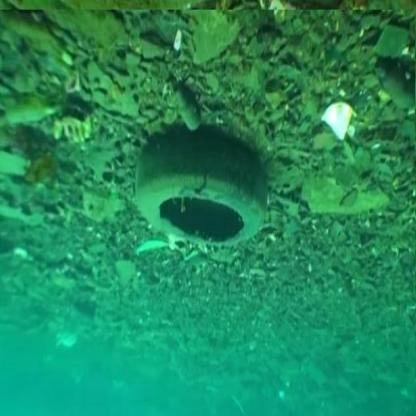tire: (124, 135, 278, 265)
